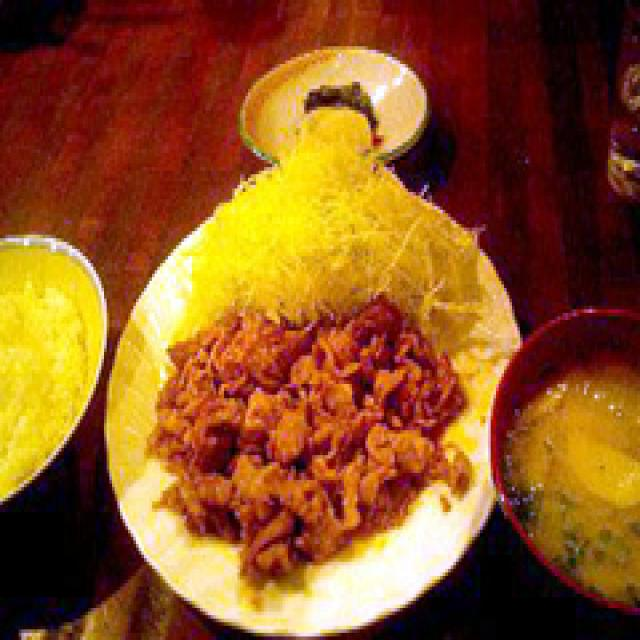猪肉菜式: (144, 224, 472, 576)
